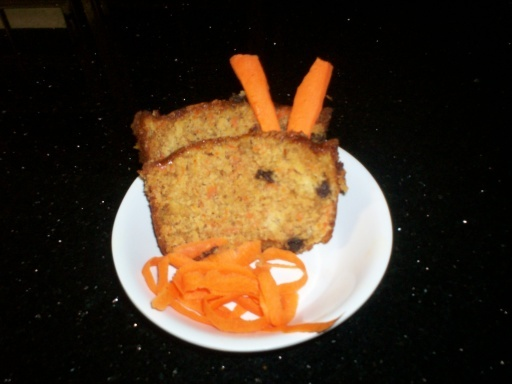background: (104, 32, 278, 200)
